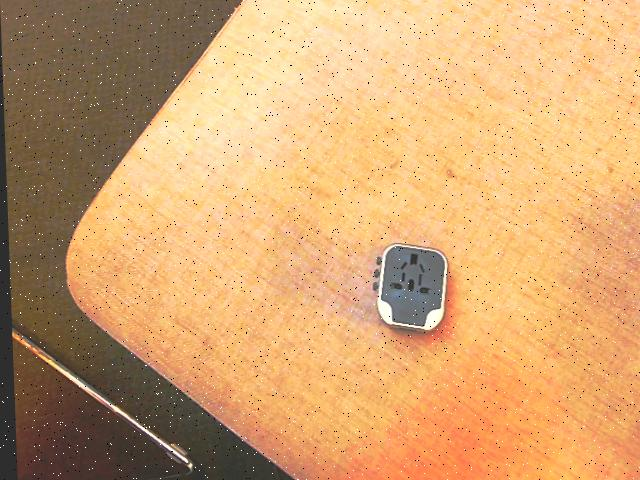adapter: (370, 243, 447, 333)
